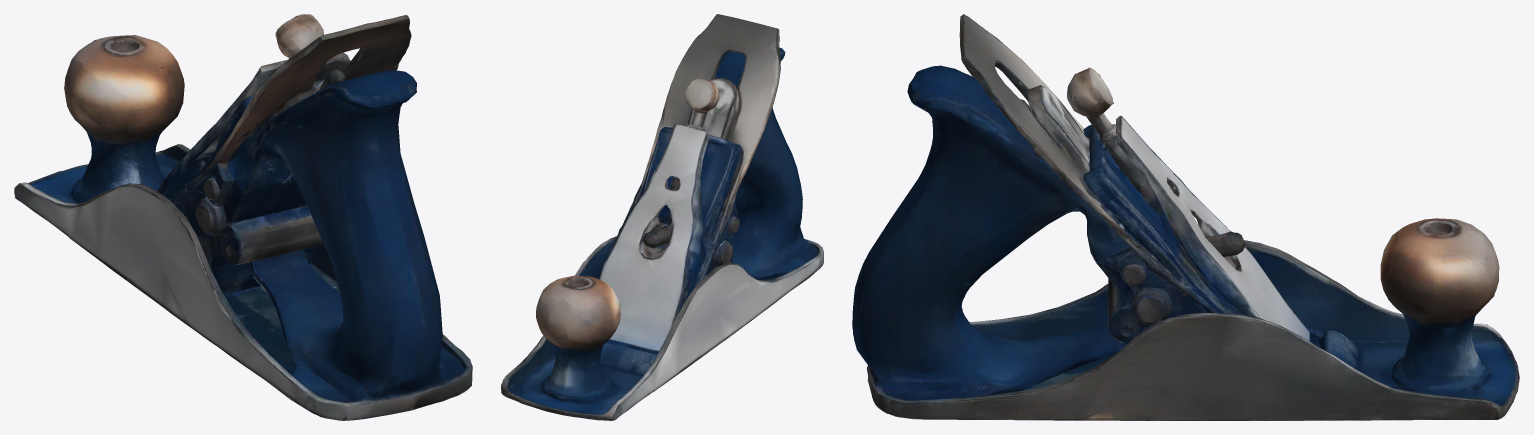
Rendered from tool-range.glb.
3 renders of one model, left to right at view 1: azimuth 30°, elevation 25°; view 2: azimuth 150°, elevation 25°; view 3: azimuth 270°, elevation 25°, orthographic. The views are drawn at different scales.
Visible parts, largest first — view 1: Mesh_0; view 2: Mesh_0; view 3: Mesh_0.
Part boxes in pixels (left/top/right/bottom): Mesh_0: left=14, top=14, right=472, bottom=420; Mesh_0: left=501, top=14, right=823, bottom=420; Mesh_0: left=852, top=14, right=1519, bottom=420.
Size of the model in its own units: 0.281 by 0.5758 by 1.
1 material, 1 textured.
